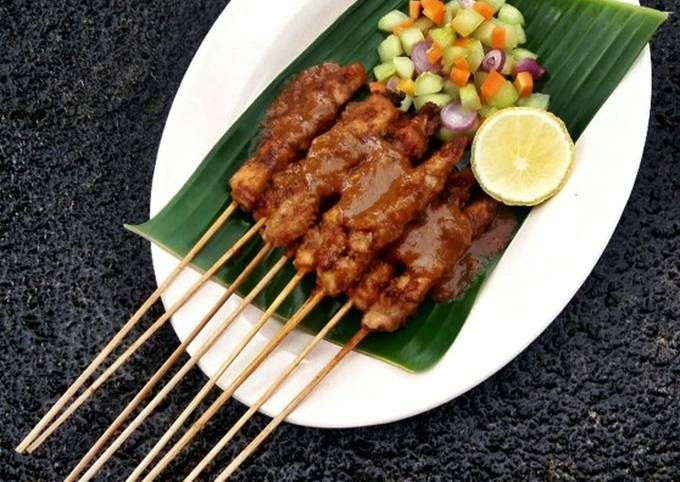sate: (10, 59, 495, 482)
